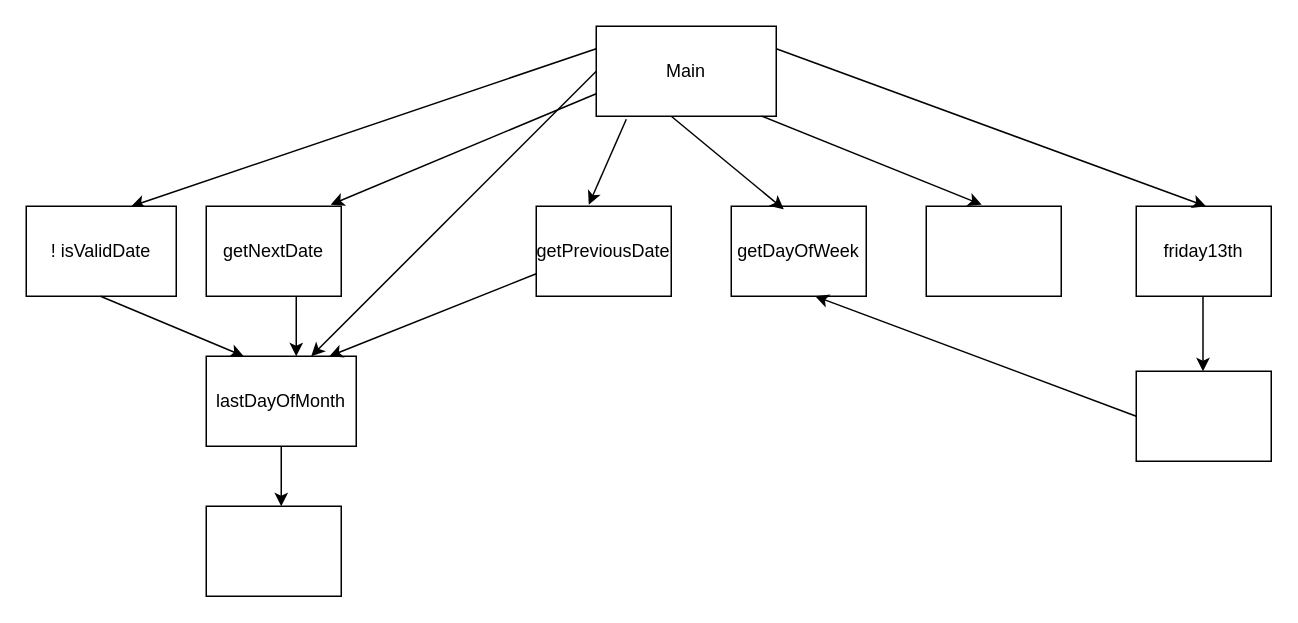
This 1298x623 diagram has some shape labels left out. Each missing label, with the box of its shape:
getZodiacSign: (925, 205, 1061, 296)
isFriday: (1135, 370, 1271, 461)
isLeap: (205, 505, 341, 596)
